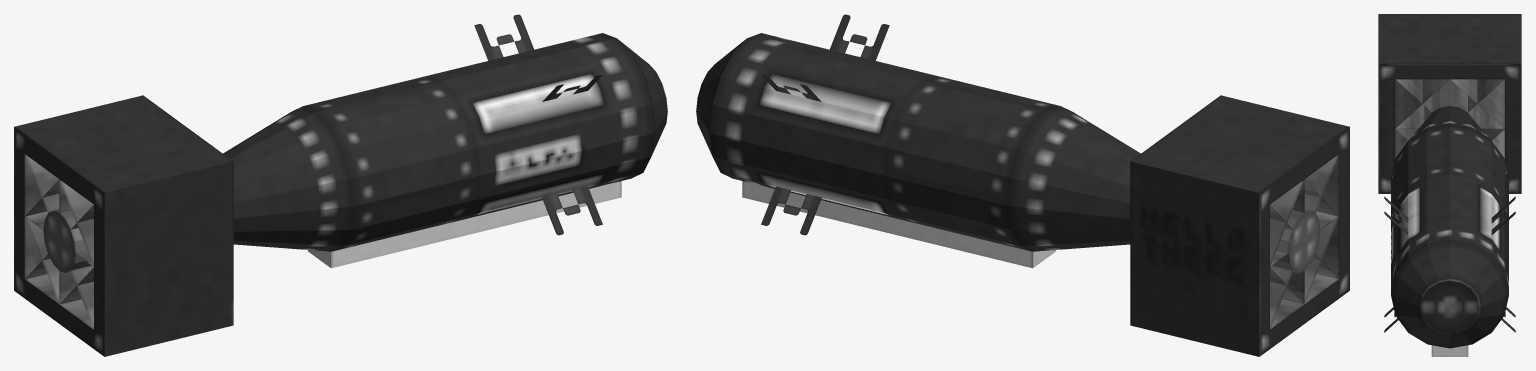
The model's file is nuke_custom.obj.
3 views of the same model, side by side, from view 1: azimuth 30°, elevation 25°; view 2: azimuth 150°, elevation 25°; view 3: azimuth 270°, elevation 25° (orthographic). The views are drawn at different scales.
Parts seen in each view (by area): view 1: Cylinder_Cylinder.002; view 2: Cylinder_Cylinder.002; view 3: Cylinder_Cylinder.002.
Boxes of the visible parts, left/top/right/bottom form: Cylinder_Cylinder.002: left=14, top=14, right=667, bottom=356; Cylinder_Cylinder.002: left=696, top=14, right=1349, bottom=356; Cylinder_Cylinder.002: left=1378, top=14, right=1521, bottom=356.
Bounding box in the file's own units: 3.2 × 0.85 × 0.85.
